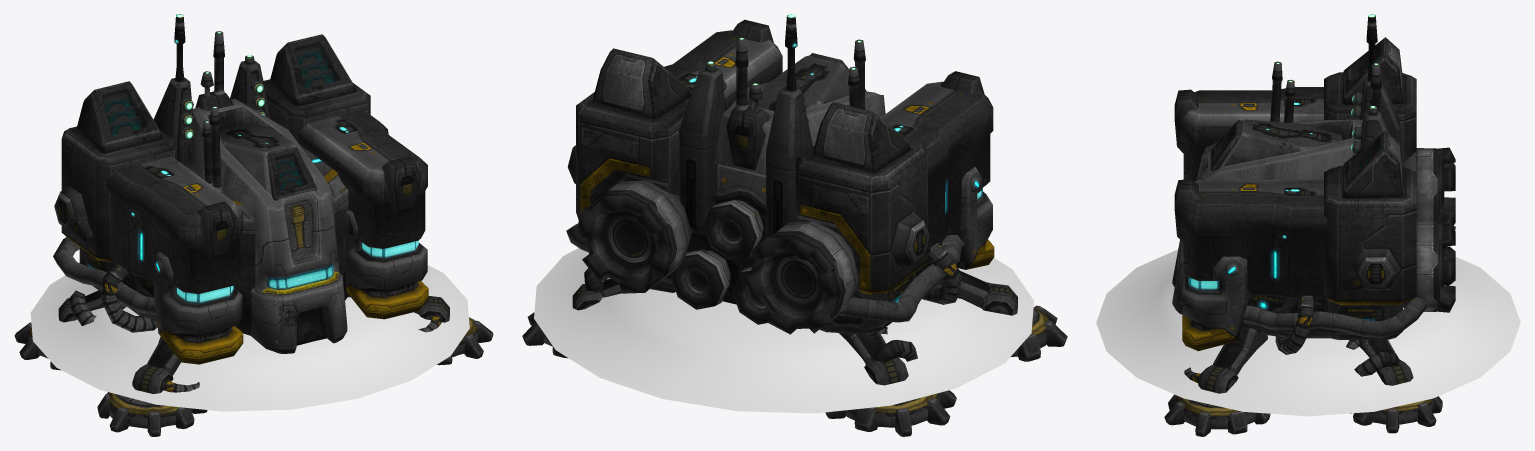
Rendered from Barracks_Umojan.glb.
The picture shows the model from 3 angles, left to right: view 1: azimuth 30°, elevation 25°; view 2: azimuth 150°, elevation 25°; view 3: azimuth 270°, elevation 25°; orthographic projection. The views are drawn at different scales.
Visible parts, largest first — view 1: Mesh, Sphere01distortion02; view 2: Mesh, Sphere01distortion02; view 3: Mesh, Sphere01distortion02.
Part boxes in pixels (x1,y1,x2,y2): Mesh: (14, 14, 493, 436); Sphere01distortion02: (30, 265, 469, 411); Mesh: (522, 14, 1067, 436); Sphere01distortion02: (534, 248, 1033, 413); Mesh: (1164, 14, 1455, 436); Sphere01distortion02: (1096, 249, 1520, 416).
Size of the model in its own units: 4.36 by 3.38 by 4.17.
Materials: 2 (2 with a texture image).
